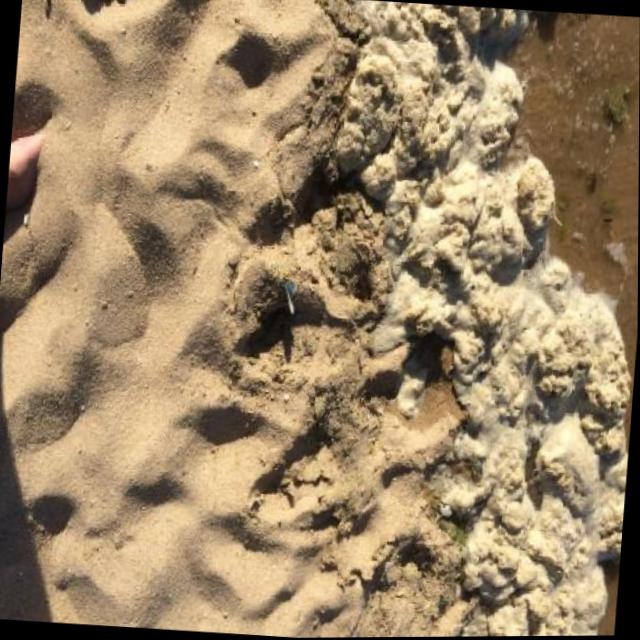paper: (281, 280, 297, 315)
